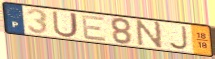3: (26, 8, 50, 36)
8: (110, 17, 134, 46)
E: (80, 14, 108, 43)
J: (167, 25, 189, 51)
N: (135, 19, 164, 51)
U: (51, 10, 80, 39)
